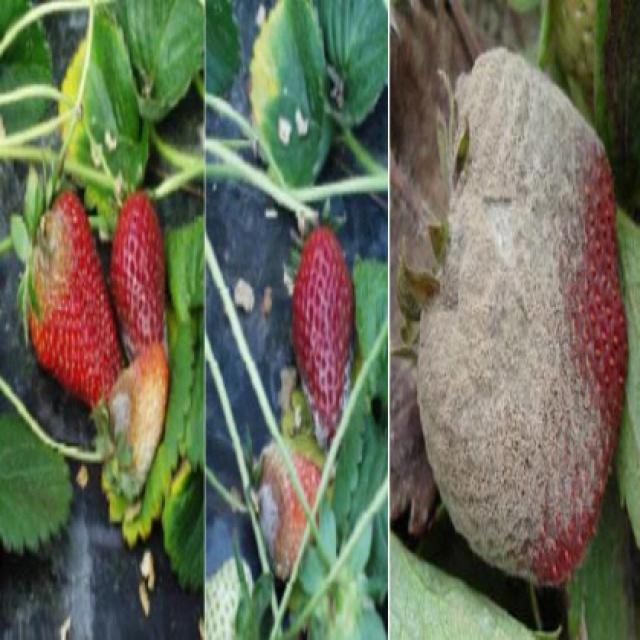Gray Mold: (417, 48, 630, 589), (101, 340, 170, 502), (258, 443, 309, 579)
